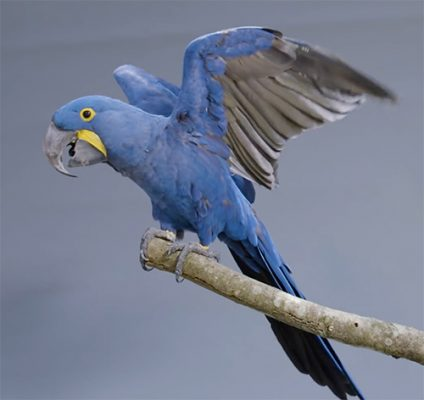guacamaya: (39, 21, 402, 400)
